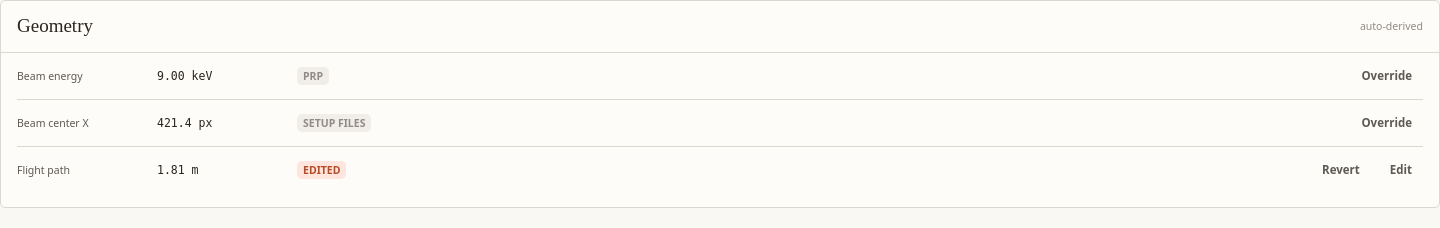
Test: GeometryLedger › Escape exits edit mode without committing
Click the button with aria-label "override beam energy": (1387, 76) [1350, 63, 1423, 89]
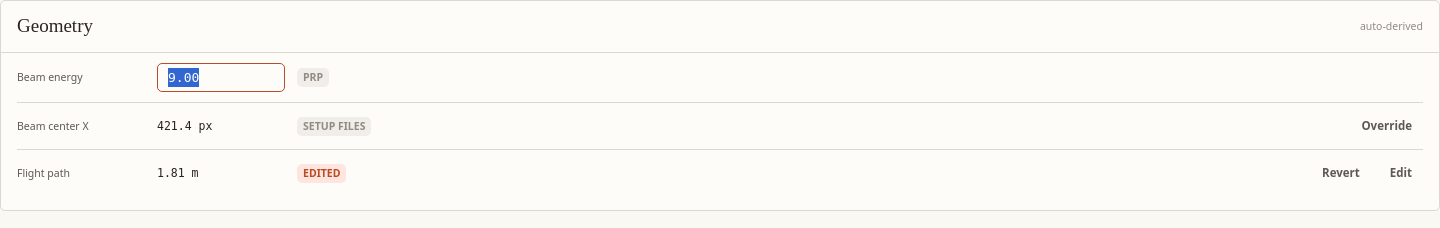
Press Escape in the field named "override beam energy", box [168, 68, 274, 87]
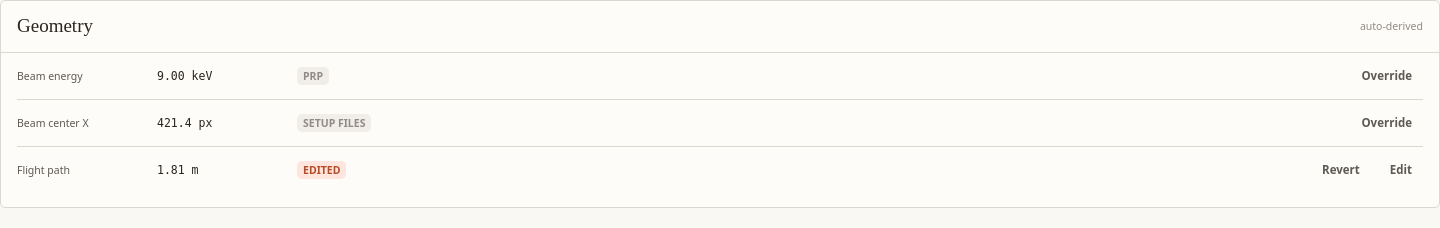
expect the text "9.00 keV" is shown: met, box [157, 69, 212, 83]
